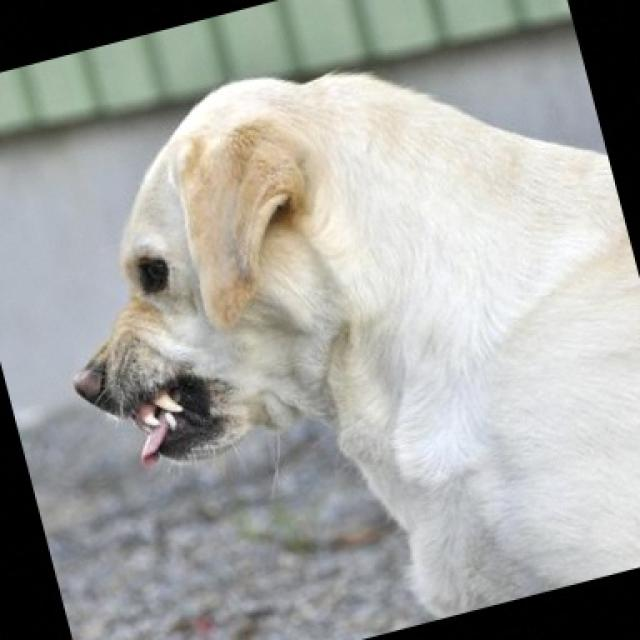angry: (59, 44, 449, 486)
